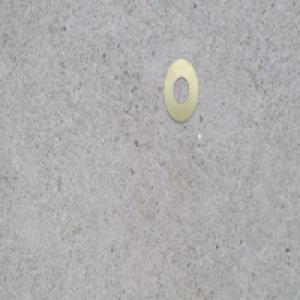Washer: (163, 57, 201, 123)
